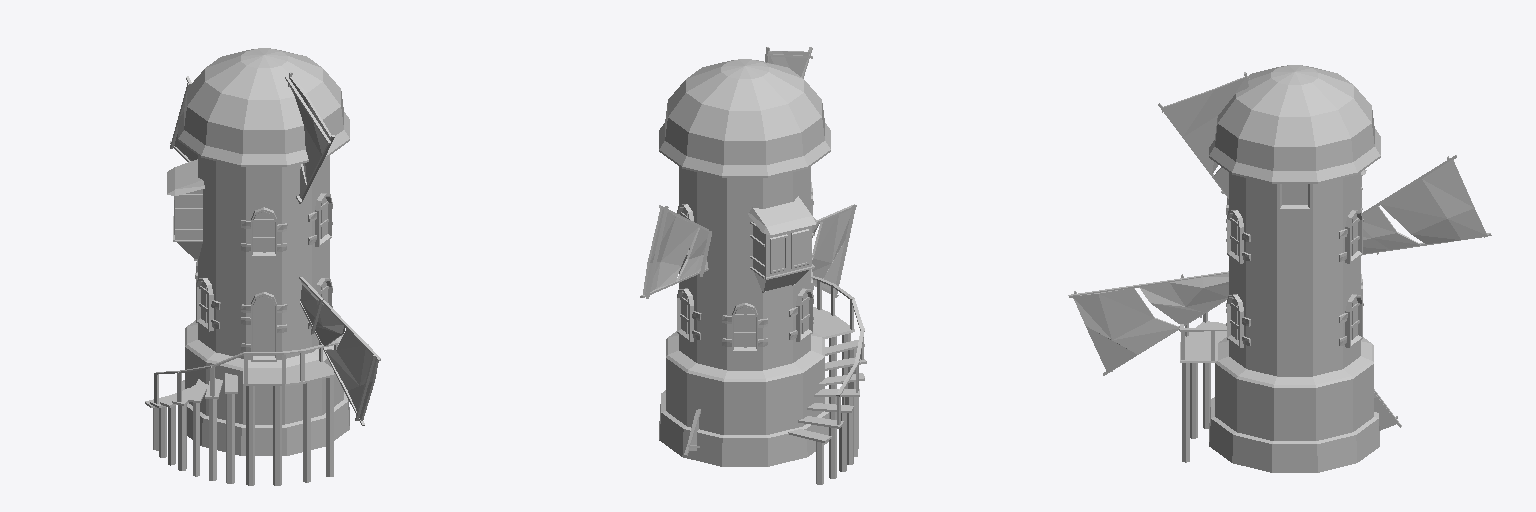
Rendered from windmill.obj.
The picture shows the model from 3 angles: view 1: azimuth 30°, elevation 25°; view 2: azimuth 150°, elevation 25°; view 3: azimuth 270°, elevation 25°; orthographic projection.
Parts seen in each view (by area): view 1: windmill_building -0.[number redacted] -0.[number redacted] 0.0, windmill_blades 0.[number redacted] 0.[number redacted] 0.0 0 0 ; view 2: windmill_building -0.[number redacted] -0.[number redacted] 0.0, windmill_blades 0.[number redacted] 0.[number redacted] 0.0 0 0 ; view 3: windmill_building -0.[number redacted] -0.[number redacted] 0.0, windmill_blades 0.[number redacted] 0.[number redacted] 0.0 0 0 .
Boxes of the visible parts, x1,y1,x2,y2 form: windmill_building -0.[number redacted] -0.[number redacted] 0.0: [145, 48, 349, 485]; windmill_blades 0.[number redacted] 0.[number redacted] 0.0 0 0 : [170, 72, 380, 425]; windmill_building -0.[number redacted] -0.[number redacted] 0.0: [659, 59, 866, 484]; windmill_blades 0.[number redacted] 0.[number redacted] 0.0 0 0 : [640, 47, 856, 455]; windmill_building -0.[number redacted] -0.[number redacted] 0.0: [1179, 65, 1380, 472]; windmill_blades 0.[number redacted] 0.[number redacted] 0.0 0 0 : [1068, 72, 1491, 430].
Size of the model in its own units: 0.4907 by 1 by 1.